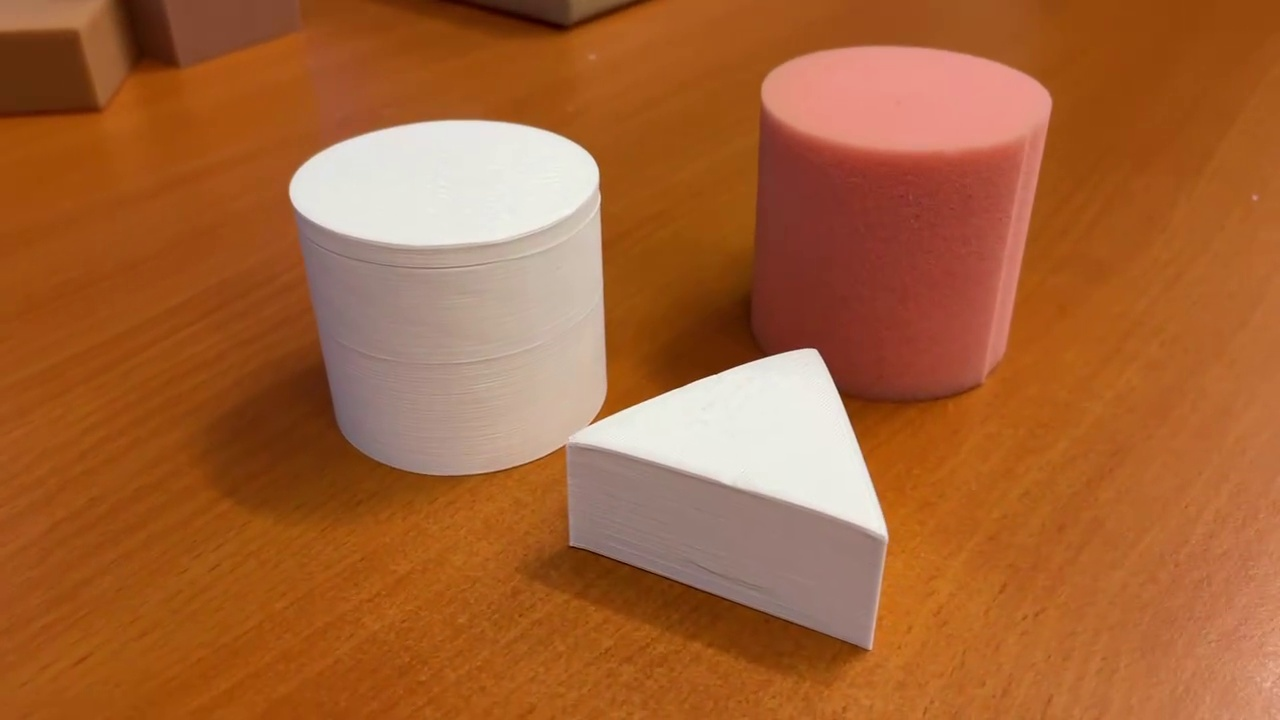Cylinder: (280, 113, 620, 484), (745, 37, 1054, 406)
Triangle_short: (563, 342, 888, 657)
